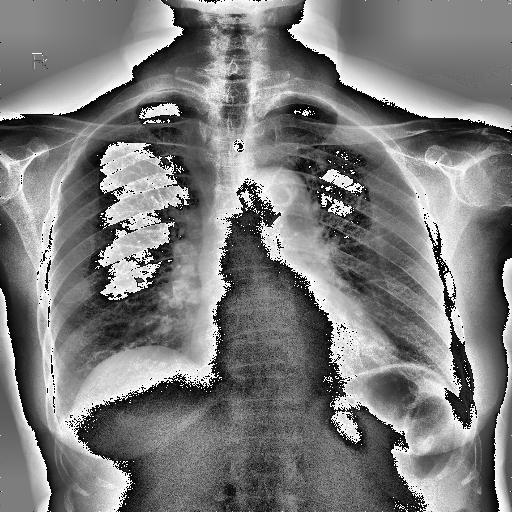0- Aortic enlargement: (238, 166, 318, 235), (240, 170, 322, 232), (246, 166, 314, 218)
2- Calcification: (158, 241, 197, 312)
3- Cardiomegaly: (188, 322, 397, 373)
9- Other lesion: (158, 241, 197, 312)
